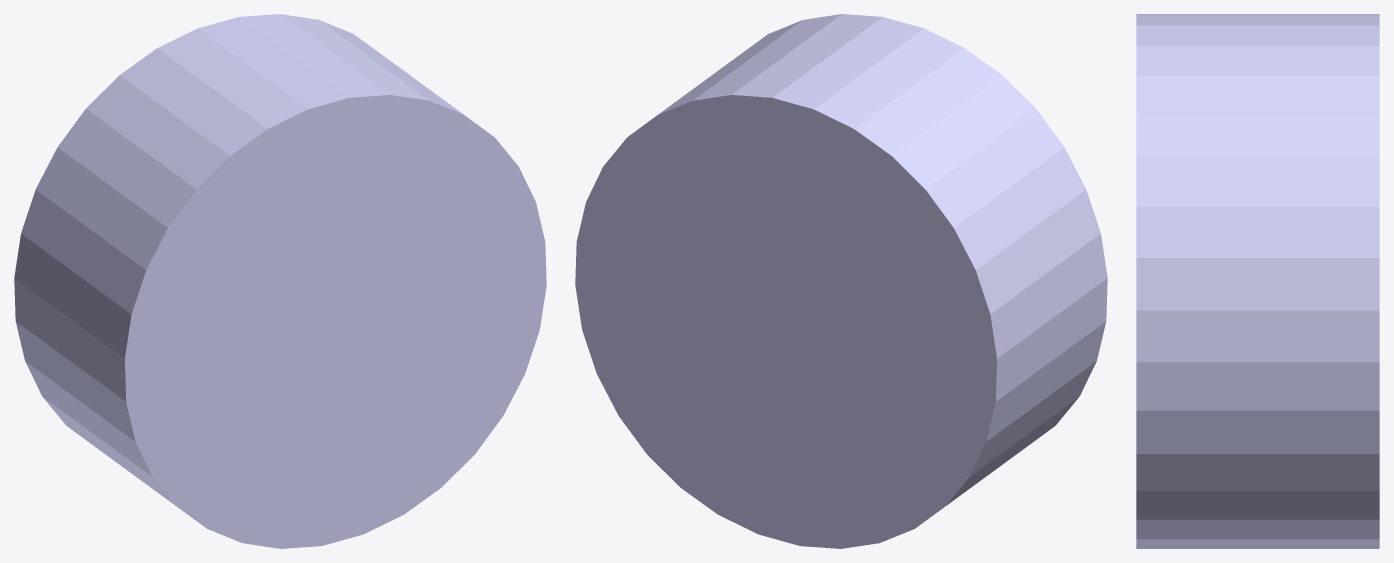
File: rambler_Chasis_vis_23.dae
The picture shows the model from 3 angles, left to right: view 1: azimuth 30°, elevation 25°; view 2: azimuth 150°, elevation 25°; view 3: azimuth 270°, elevation 25°; orthographic projection. The views are drawn at different scales.
Visible parts, largest first — view 1: Node_0x7fe0fc4d5380; view 2: Node_0x7fe0fc4d5380; view 3: Node_0x7fe0fc4d5380.
Boxes of the visible parts, left/top/right/bottom form: Node_0x7fe0fc4d5380: left=14, top=14, right=546, bottom=548; Node_0x7fe0fc4d5380: left=575, top=14, right=1107, bottom=548; Node_0x7fe0fc4d5380: left=1136, top=14, right=1379, bottom=548.
Bounding box in the file's own units: 0.016 × 0.016 × 0.00728.
